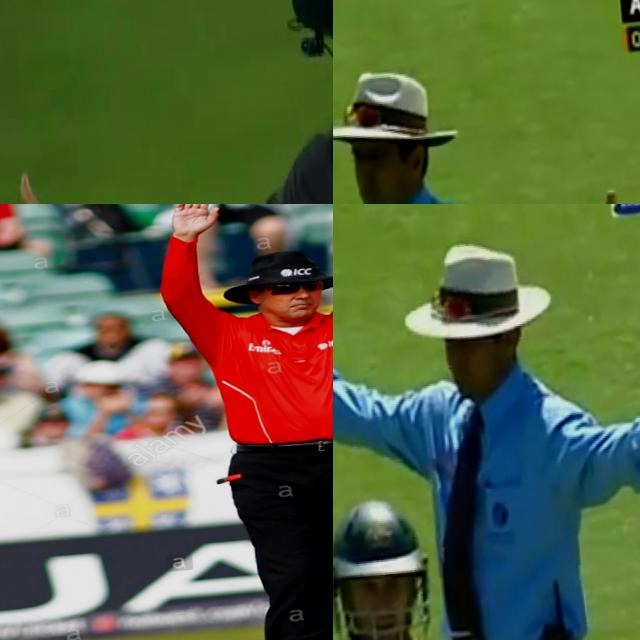No_Ball: (0, 0, 333, 204), (333, 36, 640, 204)
Six: (135, 204, 333, 640)
Wide: (333, 214, 640, 582)
